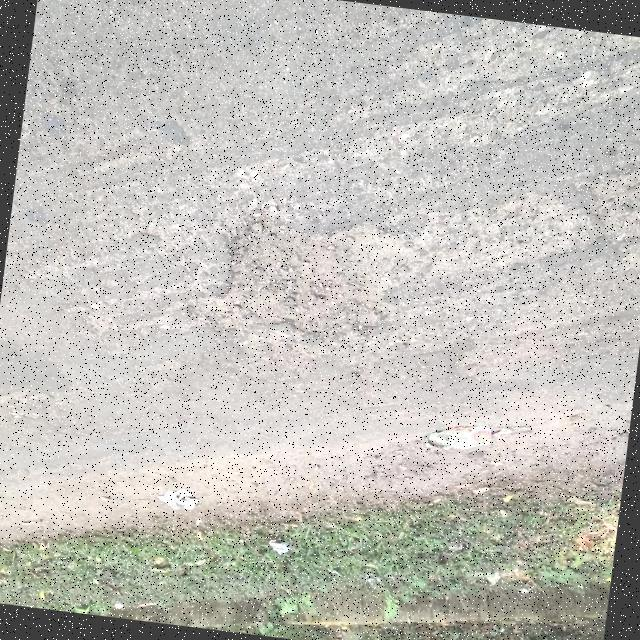Pothole: (224, 207, 423, 339)
